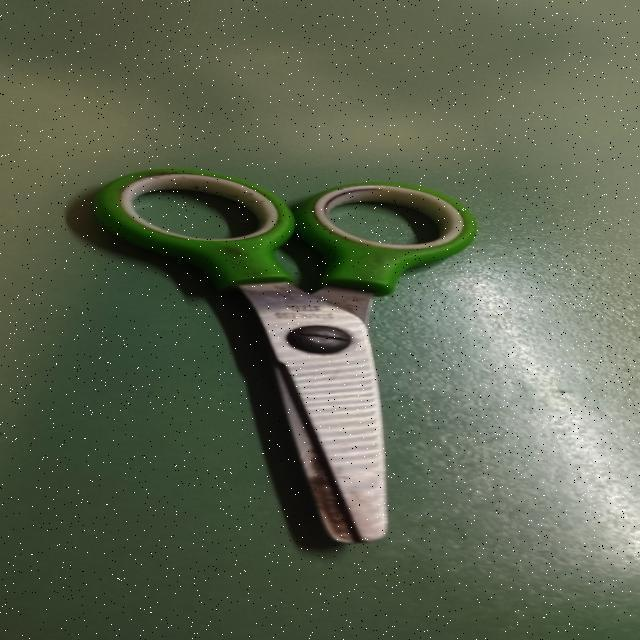scissors: (61, 160, 487, 555)
